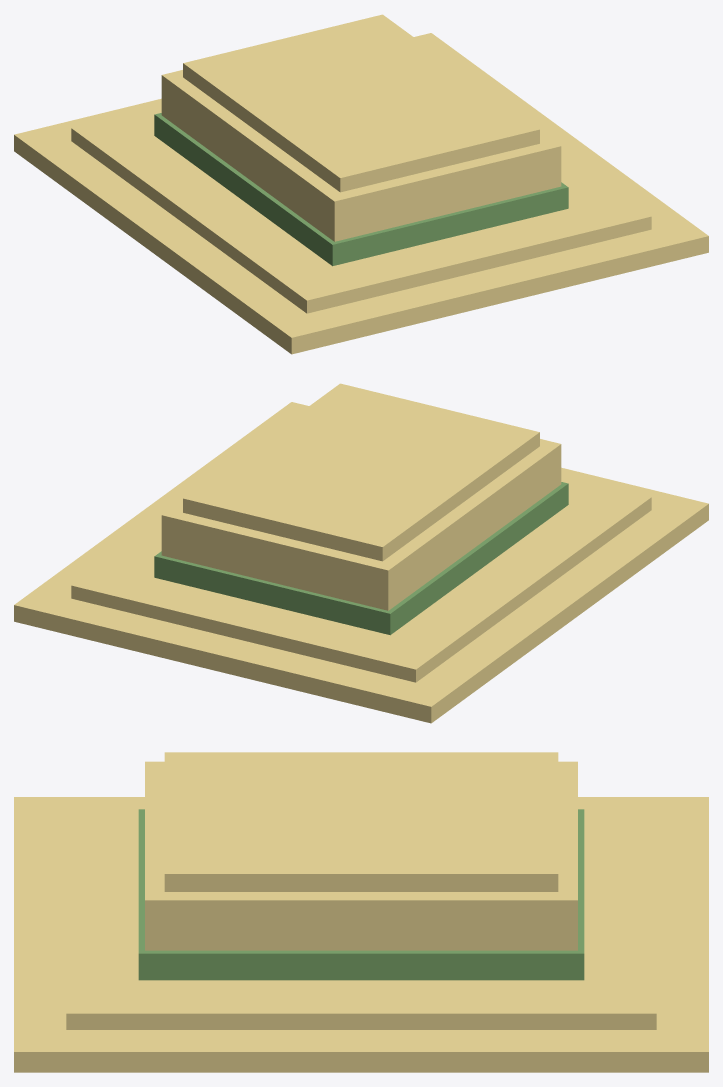
The model's file is chapeu_jardineiro.glb.
3 renders of one model, top to bottom at view 1: azimuth 30°, elevation 25°; view 2: azimuth 150°, elevation 25°; view 3: azimuth 270°, elevation 25°, orthographic. The views are drawn at different scales.
Visible parts, largest first — view 1: chapeu_jardineiro; view 2: chapeu_jardineiro; view 3: chapeu_jardineiro.
Boxes of the visible parts, box(x1,y1,x2,y2) form: chapeu_jardineiro: box(14, 14, 708, 354); chapeu_jardineiro: box(14, 383, 708, 723); chapeu_jardineiro: box(14, 752, 708, 1072).
Bounding box in the file's own units: 0.92 × 0.2225 × 1.06.
